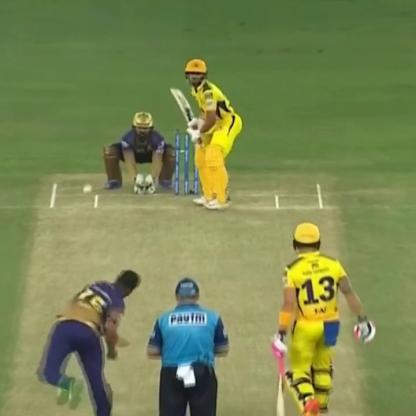ball: (77, 180, 97, 196)
bat: (166, 78, 204, 140)
pitch: (6, 170, 350, 416)
